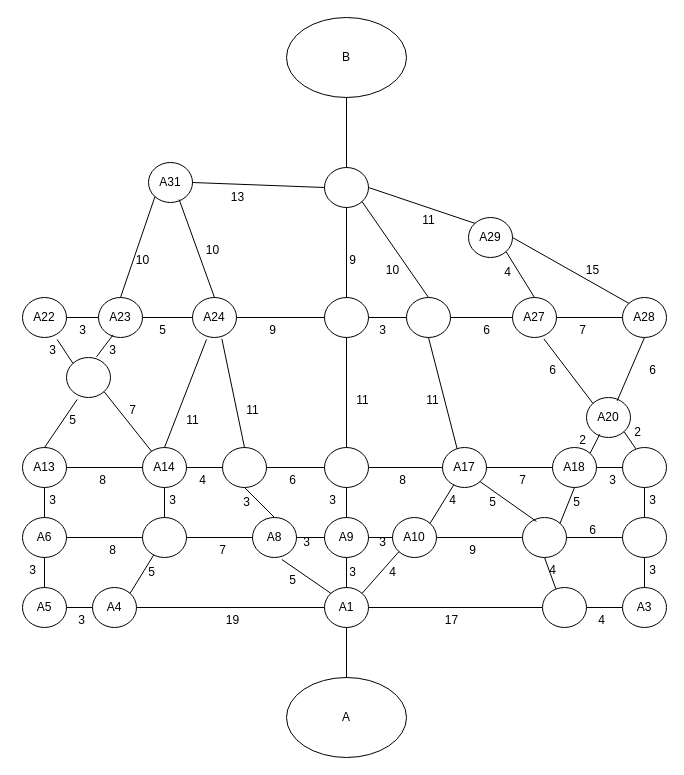
The diagram is 684 pixels wide and 775 high, and some of its shapes have lost their labels. Each missing label, with the box of its shape:
A11: (522, 516, 566, 558)
A12: (622, 516, 666, 558)
A15: (222, 446, 266, 488)
A16: (324, 446, 368, 488)
A19: (622, 446, 666, 488)
A2: (542, 586, 586, 628)
A21: (66, 356, 110, 398)
A25: (324, 296, 368, 338)
A26: (406, 296, 450, 338)
A30: (324, 166, 368, 208)
A7: (142, 516, 186, 558)
